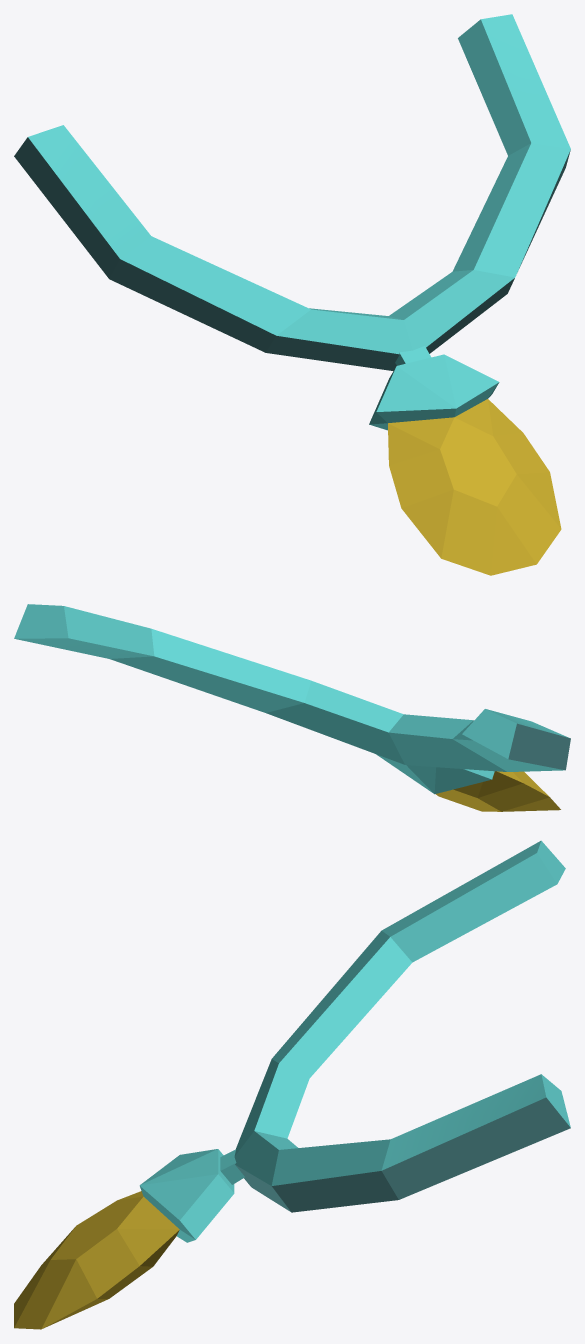
File: Prop.Necklace_04.fbx
3 renders of one model, top to bottom at view 1: azimuth 30°, elevation 25°; view 2: azimuth 150°, elevation 25°; view 3: azimuth 270°, elevation 25°, orthographic. The views are drawn at different scales.
Visible parts, largest first — view 1: Prop_Necklace_04; view 2: Prop_Necklace_04; view 3: Prop_Necklace_04.
Part boxes in pixels (x1=…): Prop_Necklace_04: x1=14, y1=14, x2=570, y2=575; Prop_Necklace_04: x1=14, y1=604, x2=570, y2=811; Prop_Necklace_04: x1=14, y1=840, x2=570, y2=1329.
Bounding box in the file's own units: 17.17 × 10.78 × 15.42.
